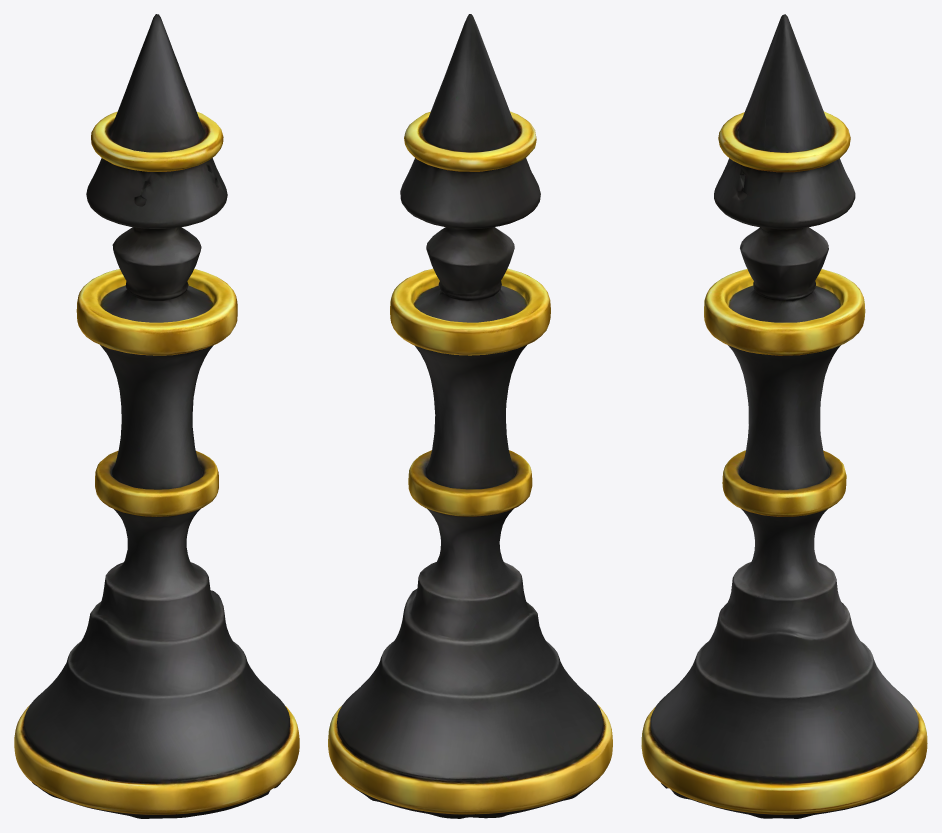
The model's file is queen_chess.glb.
The picture shows the model from 3 angles, left to right: view 1: azimuth 30°, elevation 25°; view 2: azimuth 150°, elevation 25°; view 3: azimuth 270°, elevation 25°; orthographic projection.
Visible parts, largest first — view 1: tripo_node_afd3ff1f-54fd-4b2a-a20a-f18fb10beb60; view 2: tripo_node_afd3ff1f-54fd-4b2a-a20a-f18fb10beb60; view 3: tripo_node_afd3ff1f-54fd-4b2a-a20a-f18fb10beb60.
Part boxes in pixels (<box>): tripo_node_afd3ff1f-54fd-4b2a-a20a-f18fb10beb60: <box>14,14,299,818</box>; tripo_node_afd3ff1f-54fd-4b2a-a20a-f18fb10beb60: <box>328,14,612,818</box>; tripo_node_afd3ff1f-54fd-4b2a-a20a-f18fb10beb60: <box>641,14,927,818</box>.
Size of the model in its own units: 0.3459 by 1 by 0.346.
1 material, 1 textured.
